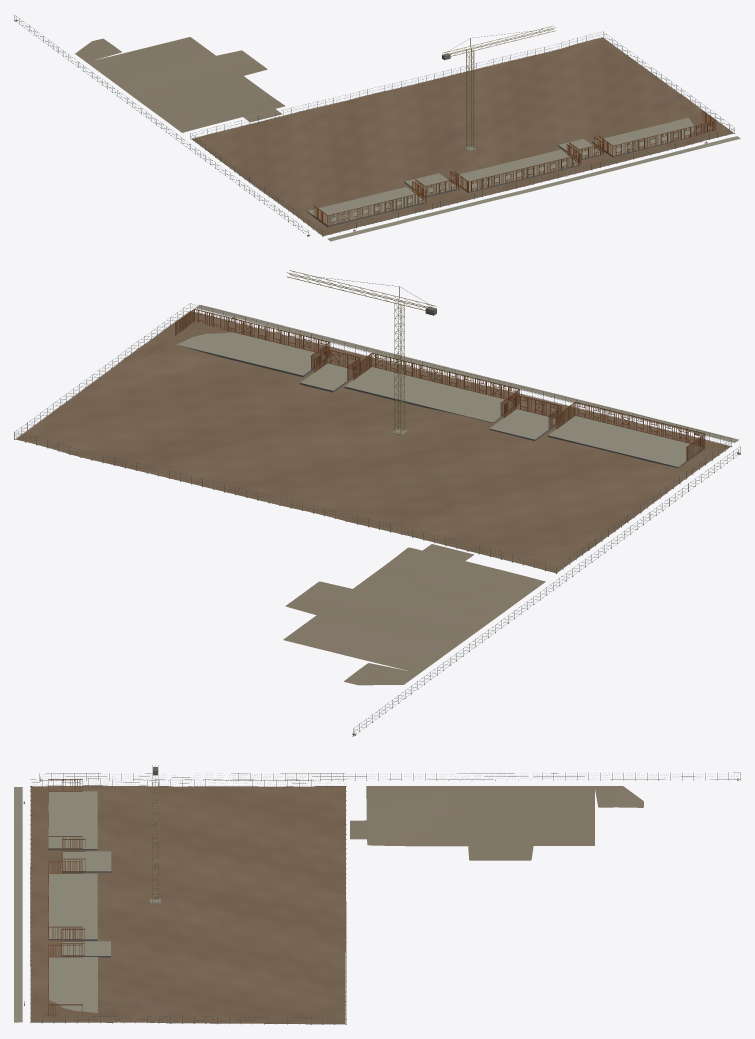
File: site.glb
3 views of the same model, one above another, from view 1: azimuth 30°, elevation 25°; view 2: azimuth 150°, elevation 25°; view 3: azimuth 270°, elevation 25° (orthographic). The views are drawn at different scales.
Visible parts, largest first — view 1: former-hospital-construction; view 2: former-hospital-construction; view 3: former-hospital-construction.
Boxes of the visible parts, x1,y1,x2,y2 form: former-hospital-construction: [14, 14, 740, 241]; former-hospital-construction: [14, 270, 740, 736]; former-hospital-construction: [14, 765, 740, 1024].
Size of the model in its own units: 140 by 35.37 by 175.
